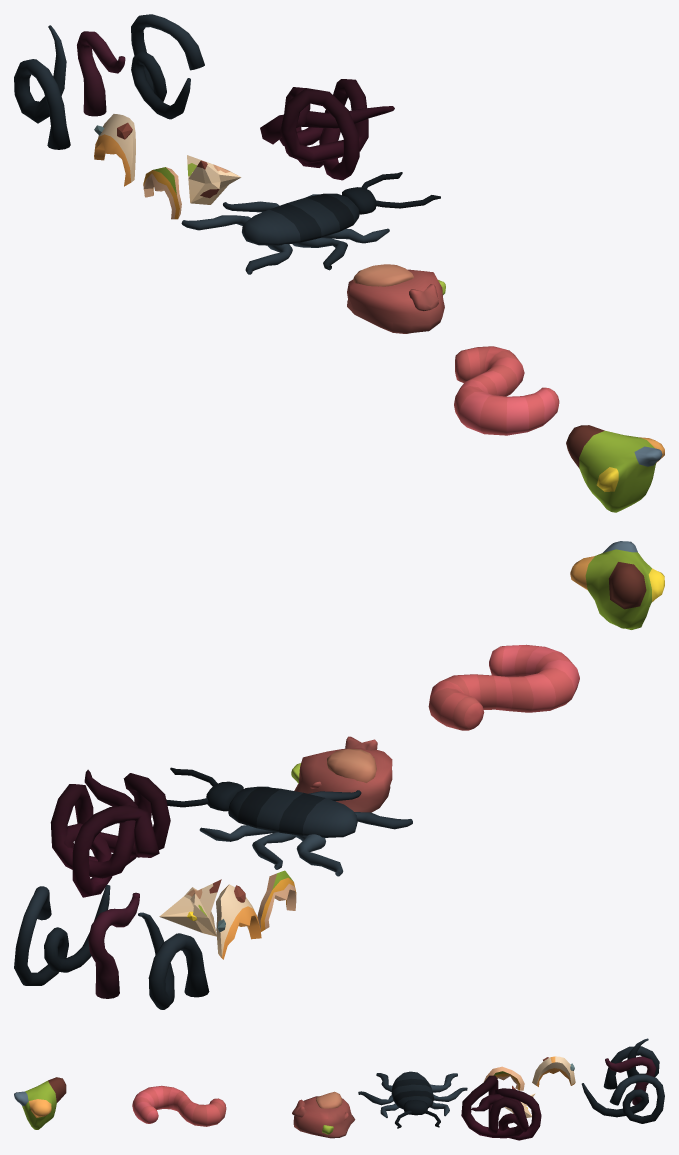
Rendered from DirtPieces.fbx.
The picture shows the model from 3 angles, top to bottom: view 1: azimuth 30°, elevation 25°; view 2: azimuth 150°, elevation 25°; view 3: azimuth 270°, elevation 25°; orthographic projection. The views are drawn at different scales.
Visible parts, largest first — view 1: Cockroach, HairBall, Worm, DirtPile02, DirtPile01, Hair01, Hair03, Hair02, Toenail_02, Napkin, Toenail_01; view 2: HairBall, Cockroach, Worm, DirtPile02, DirtPile01, Hair01, Hair03, Hair02, Toenail_02, Napkin, Toenail_01; view 3: HairBall, Cockroach, Worm, DirtPile01, Hair01, DirtPile02, Hair03, Toenail_02, Hair02, Toenail_01.
Part boxes in pixels (x1=…): Cockroach: x1=181, y1=172, x2=440, y2=274; HairBall: x1=260, y1=79, x2=394, y2=180; Worm: x1=454, y1=346, x2=559, y2=435; DirtPile02: x1=566, y1=425, x2=664, y2=512; DirtPile01: x1=347, y1=264, x2=445, y2=333; Hair01: x1=131, y1=14, x2=204, y2=119; Hair03: x1=14, y1=25, x2=70, y2=149; Hair02: x1=77, y1=31, x2=125, y2=116; Toenail_02: x1=94, y1=114, x2=135, y2=186; Napkin: x1=187, y1=155, x2=241, y2=204; Toenail_01: x1=143, y1=167, x2=181, y2=219; HairBall: x1=50, y1=769, x2=170, y2=897; Cockroach: x1=166, y1=767, x2=412, y2=876; Worm: x1=428, y1=644, x2=579, y2=730; DirtPile02: x1=570, y1=541, x2=664, y2=629; DirtPile01: x1=291, y1=736, x2=392, y2=812; Hair01: x1=14, y1=885, x2=110, y2=985; Hair03: x1=138, y1=912, x2=209, y2=1009; Hair02: x1=88, y1=892, x2=139, y2=998; Toenail_02: x1=216, y1=884, x2=261, y2=959; Napkin: x1=159, y1=879, x2=221, y2=936; Toenail_01: x1=257, y1=870, x2=296, y2=931; HairBall: x1=461, y1=1075, x2=541, y2=1140; Cockroach: x1=358, y1=1071, x2=467, y2=1128; Worm: x1=132, y1=1085, x2=226, y2=1126; DirtPile01: x1=292, y1=1091, x2=355, y2=1138; Hair01: x1=581, y1=1074, x2=664, y2=1123; DirtPile02: x1=14, y1=1077, x2=66, y2=1129; Hair03: x1=603, y1=1038, x2=659, y2=1089; Toenail_02: x1=532, y1=1056, x2=575, y2=1086; Hair02: x1=605, y1=1056, x2=656, y2=1104; Toenail_01: x1=484, y1=1066, x2=524, y2=1090.
Size of the model in its own units: 813 by 416 by 3343.
